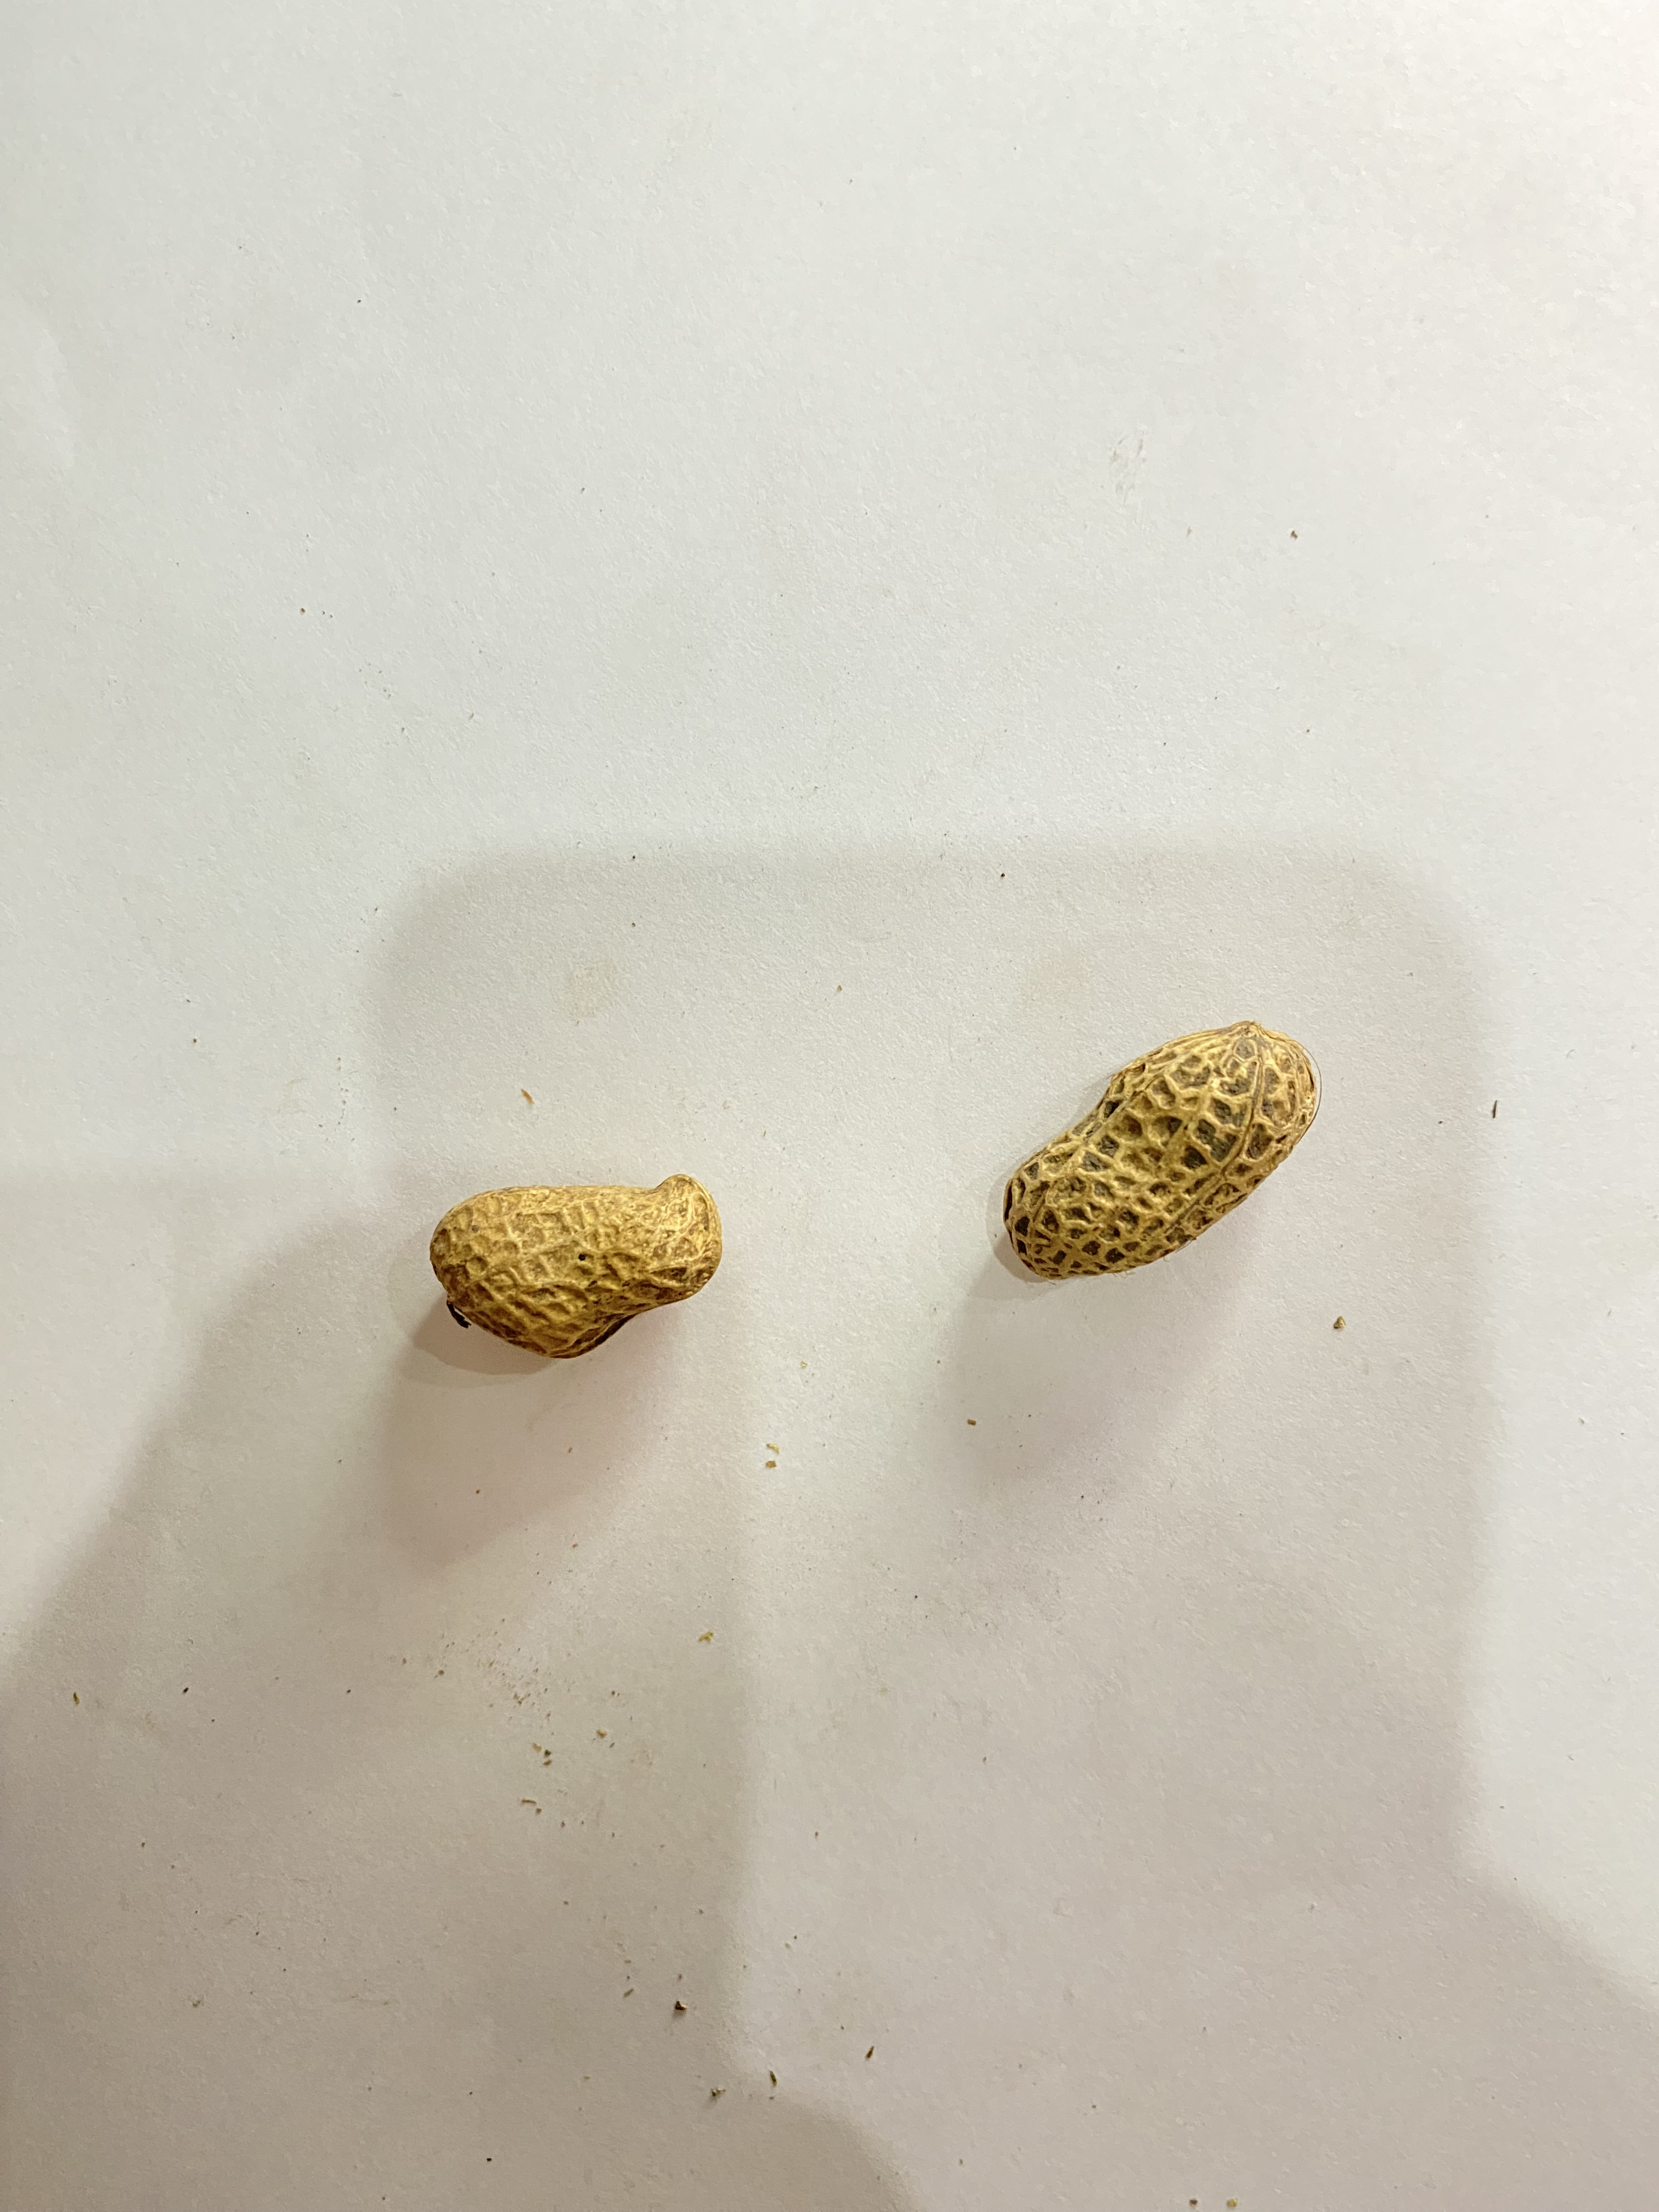kacang1: (396, 1163, 749, 1371)
kacang2: (983, 993, 1413, 1329)
